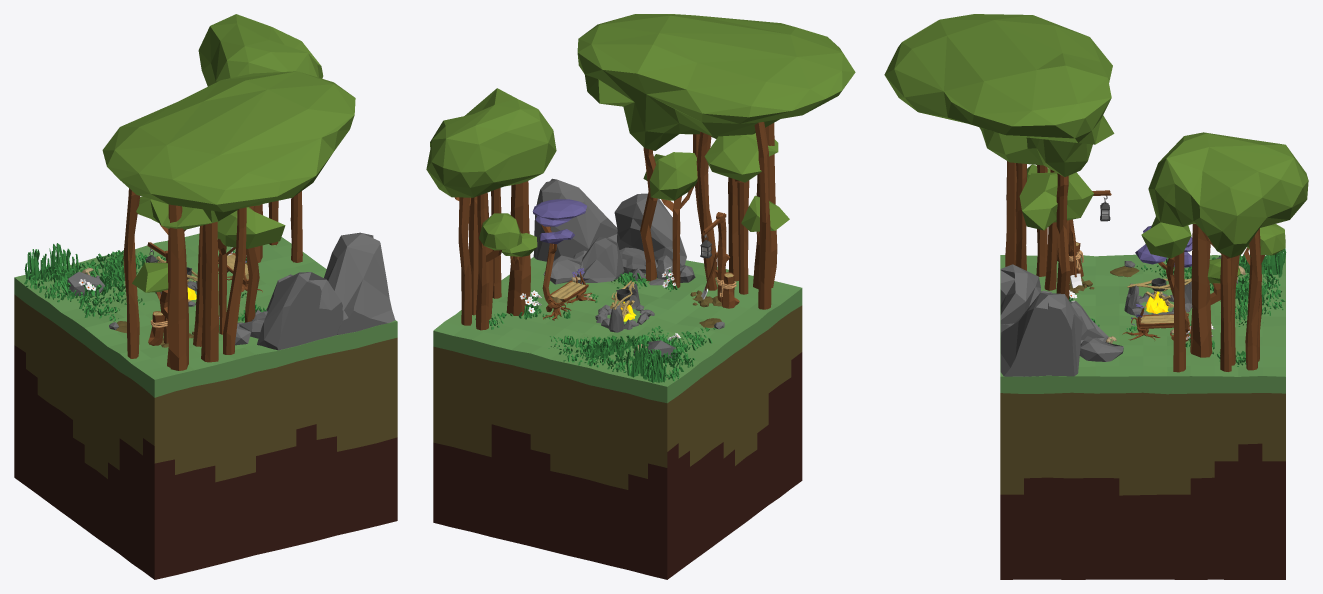
Rendered from Campfire-transformed.glb.
The picture shows the model from 3 angles, left to right: view 1: azimuth 30°, elevation 25°; view 2: azimuth 150°, elevation 25°; view 3: azimuth 270°, elevation 25°; orthographic projection. The views are drawn at different scales.
Parts seen in each view (by area): view 1: Cube, Mball.010, Mball.000, Icosphere.027, Icosphere.028, Cylinder.009, Cylinder.010, Cylinder.006, Cylinder.007, Cylinder.011, Cylinder.004, Cylinder.012 (+3 smaller); view 2: Cube, Mball.010, Mball.000, Icosphere.027, Icosphere.028, Cylinder.006, Cylinder.001, Mball.011, Icosphere.006, Mball.006, Cylinder.002, Cylinder.012 (+13 smaller); view 3: Cube, Mball.010, Mball.000, Icosphere.027, Cylinder.001, Icosphere.028, Cylinder.005, Cylinder.003, Cylinder.011, Cylinder.004, Mball.011, Cylinder.010 (+7 smaller).
Part boxes in pixels (bbox=[...]): Cube: bbox=[14, 233, 397, 579]; Mball.010: bbox=[102, 71, 355, 292]; Mball.000: bbox=[198, 14, 323, 86]; Icosphere.027: bbox=[324, 232, 395, 334]; Icosphere.028: bbox=[257, 272, 343, 350]; Cylinder.009: bbox=[156, 204, 188, 370]; Cylinder.010: bbox=[201, 221, 218, 362]; Cylinder.006: bbox=[123, 188, 140, 358]; Cylinder.007: bbox=[223, 207, 246, 354]; Cylinder.011: bbox=[245, 206, 259, 322]; Cylinder.004: bbox=[290, 191, 302, 262]; Cylinder.012: bbox=[193, 225, 203, 346]; Cube: bbox=[433, 257, 802, 579]; Mball.010: bbox=[577, 14, 855, 231]; Mball.000: bbox=[426, 88, 556, 197]; Icosphere.027: bbox=[533, 178, 617, 261]; Icosphere.028: bbox=[614, 193, 686, 265]; Cylinder.006: bbox=[754, 122, 771, 309]; Cylinder.001: bbox=[506, 181, 530, 316]; Mball.011: bbox=[479, 213, 537, 256]; Icosphere.006: bbox=[577, 237, 624, 282]; Mball.006: bbox=[532, 199, 586, 244]; Cylinder.002: bbox=[476, 193, 501, 330]; Cylinder.012: bbox=[696, 132, 717, 290]; Cube: bbox=[1000, 254, 1285, 579]; Mball.010: bbox=[884, 14, 1114, 230]; Mball.000: bbox=[1141, 132, 1308, 258]; Icosphere.027: bbox=[1000, 292, 1082, 376]; Cylinder.001: bbox=[1190, 224, 1220, 357]; Icosphere.028: bbox=[1000, 264, 1040, 332]; Cylinder.005: bbox=[1245, 230, 1261, 370]; Cylinder.003: bbox=[1202, 231, 1237, 371]; Cylinder.011: bbox=[1056, 173, 1070, 299]; Cylinder.004: bbox=[1173, 251, 1185, 372]; Mball.011: bbox=[1207, 224, 1285, 283]; Cylinder.010: bbox=[1006, 161, 1016, 266].
Size of the model in its own units: 24.67 by 34.09 by 28.82.
